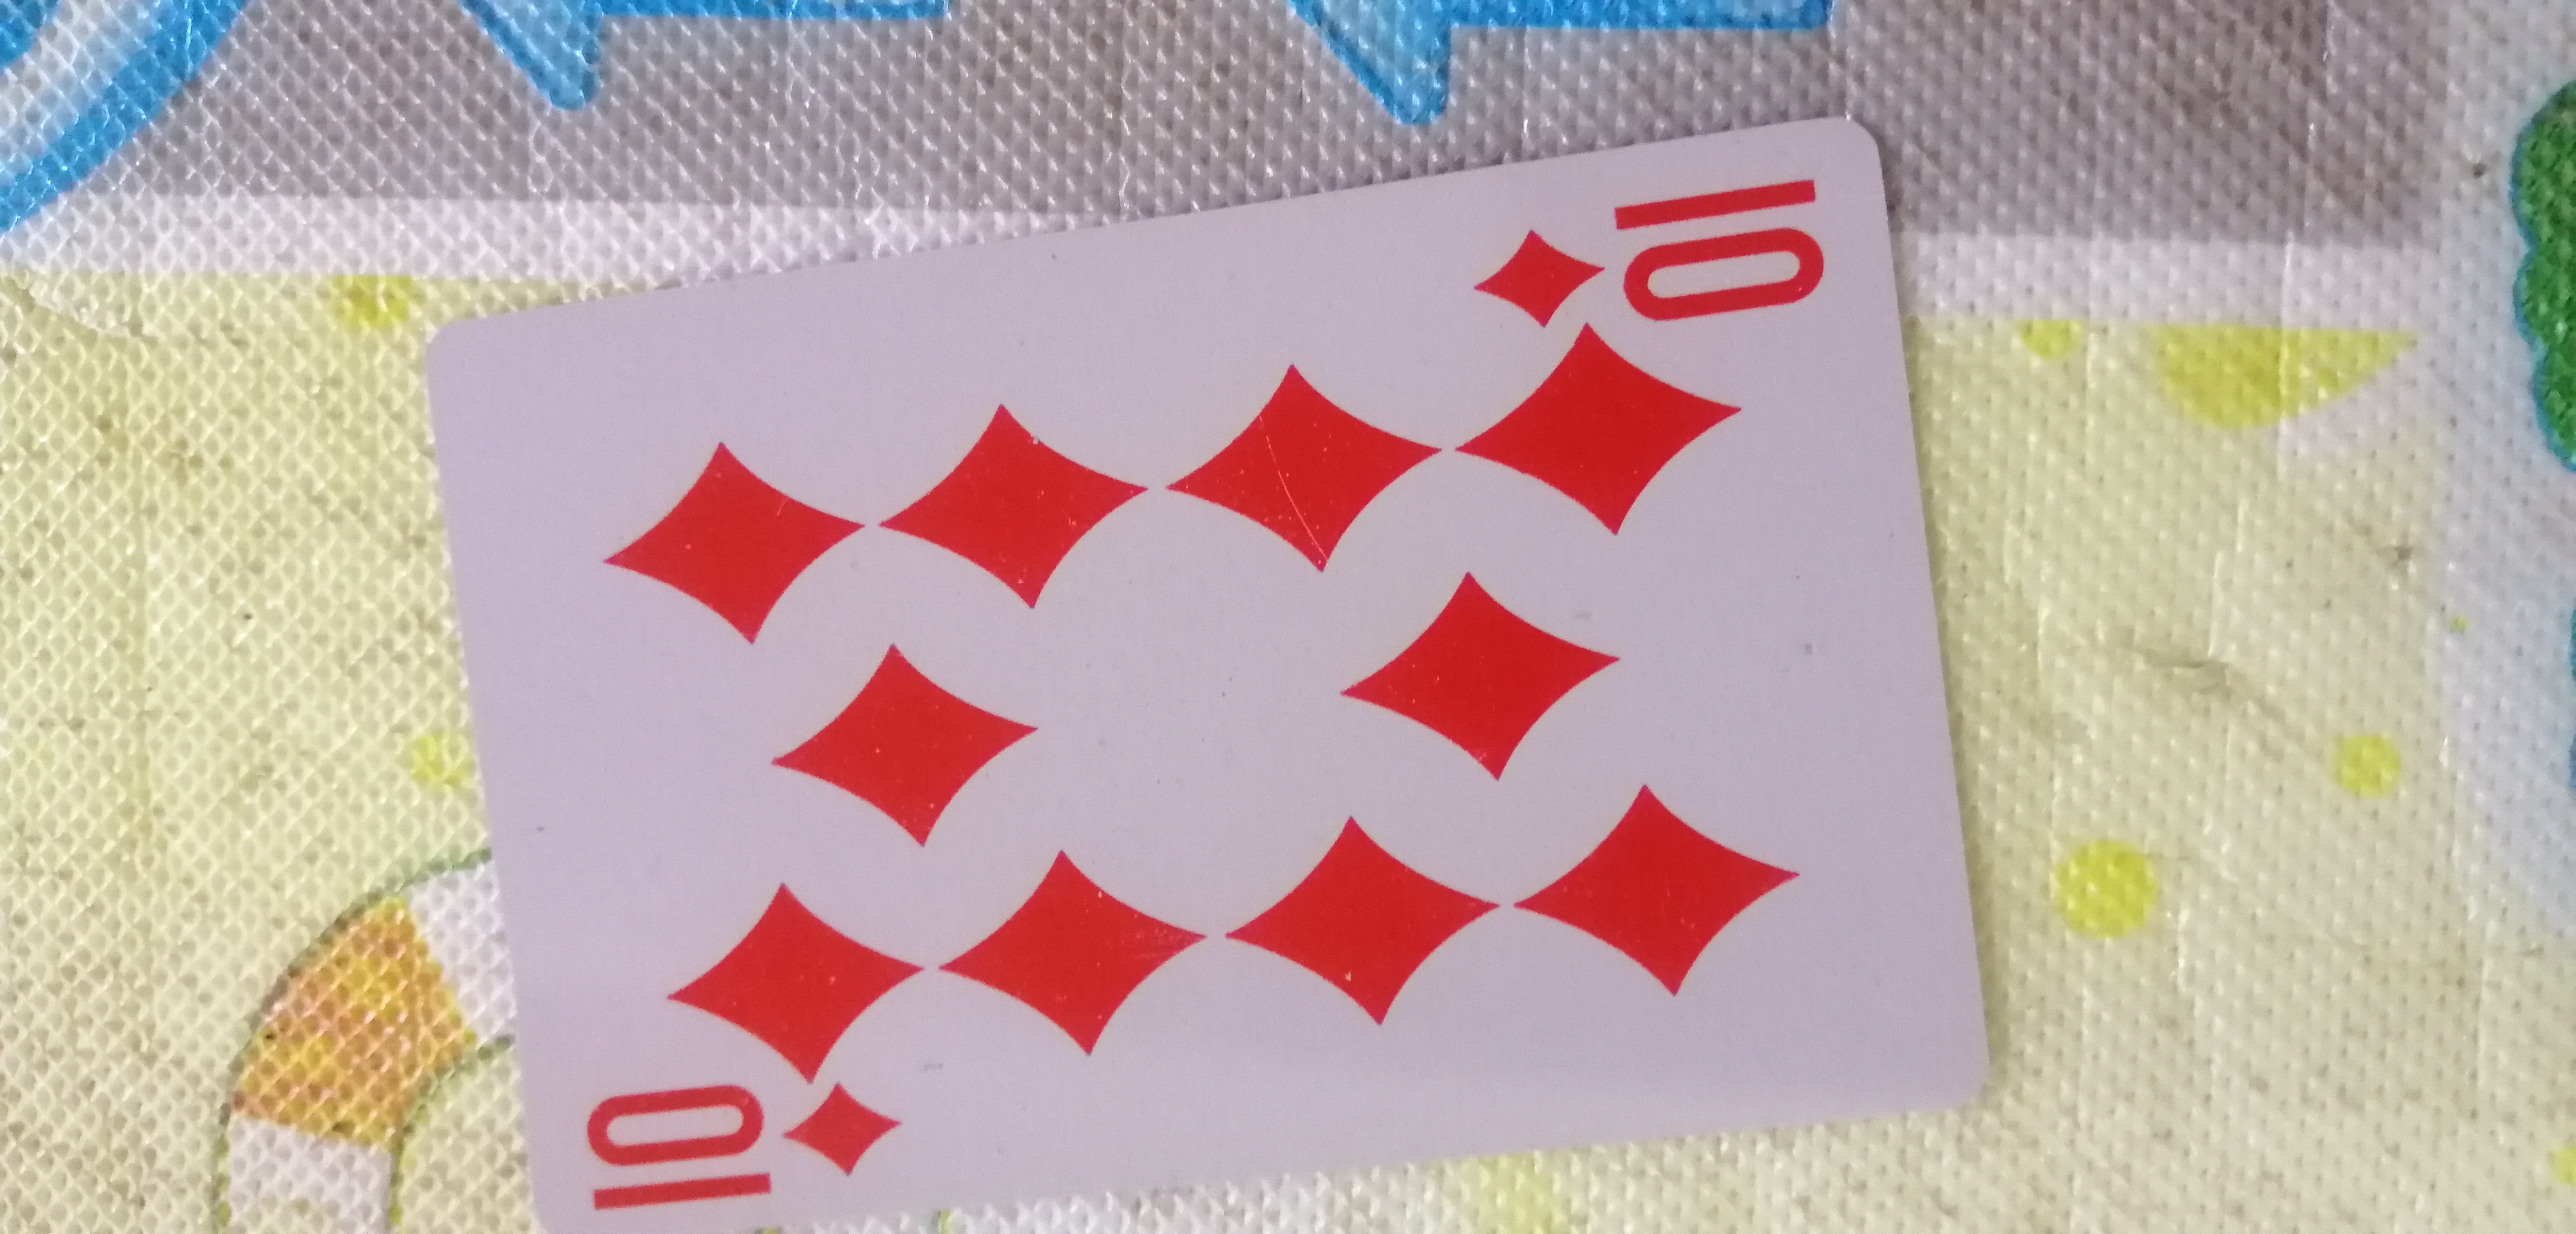ten: (391, 158, 2042, 1219)
